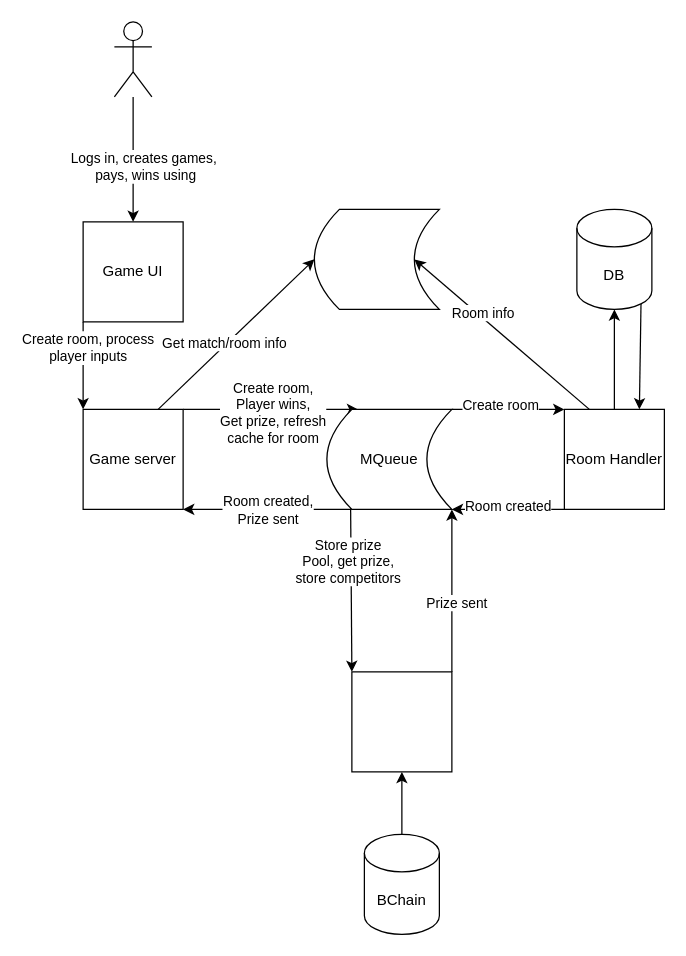
The diagram is 686 pixels wide and 956 high, and some of its shapes have lost their labels. The shapes that lost their labels are listed below. From the top down, each one's centre as x and y in pixels, then its label:
At point 132,59: "Actor".
At point 376,258: "Cache".
At point 401,721: "Chain handler".
